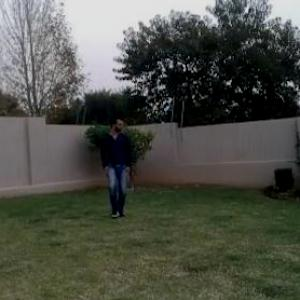follow: (101, 115, 133, 220)
